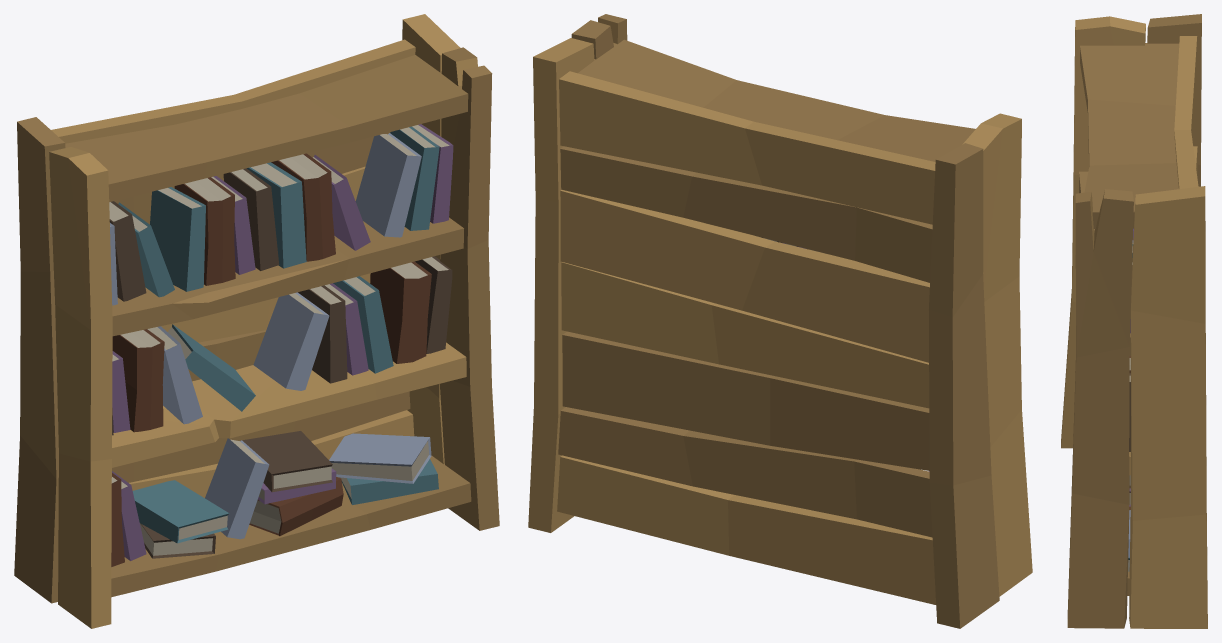
File: Bookshelf_3.gltf
3 views of the same model, side by side, from view 1: azimuth 30°, elevation 25°; view 2: azimuth 150°, elevation 25°; view 3: azimuth 270°, elevation 25° (orthographic). The views are drawn at different scales.
Visible parts, largest first — view 1: Bookshelf_32; view 2: Bookshelf_32; view 3: Bookshelf_32.
Boxes of the visible parts, x1,y1,x2,y2 form: Bookshelf_32: (14,14,499,628); Bookshelf_32: (528,14,1032,628); Bookshelf_32: (1061,14,1207,628).
Bounding box in the file's own units: 0.5412 × 0.568 × 0.1752.
Materials: 1 (1 with a texture image).
